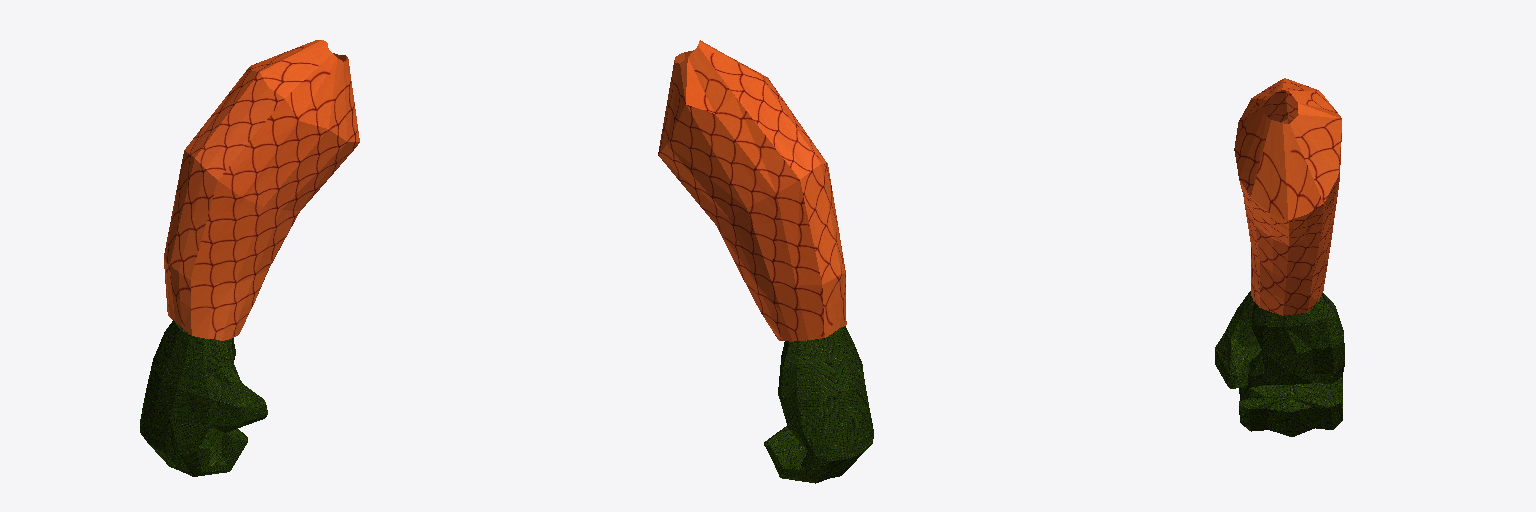
The picture shows the model from 3 angles: view 1: azimuth 30°, elevation 25°; view 2: azimuth 150°, elevation 25°; view 3: azimuth 270°, elevation 25°; orthographic projection.
Visible parts, largest first — view 1: brazoder; view 2: brazoder; view 3: brazoder.
Part boxes in pixels (left/top/right/bottom): brazoder: left=140, top=40, right=359, bottom=476; brazoder: left=658, top=40, right=873, bottom=483; brazoder: left=1215, top=78, right=1344, bottom=436.
Size of the model in its own units: 1.38 by 2.58 by 0.7689.
Materials: 2 (2 with a texture image).